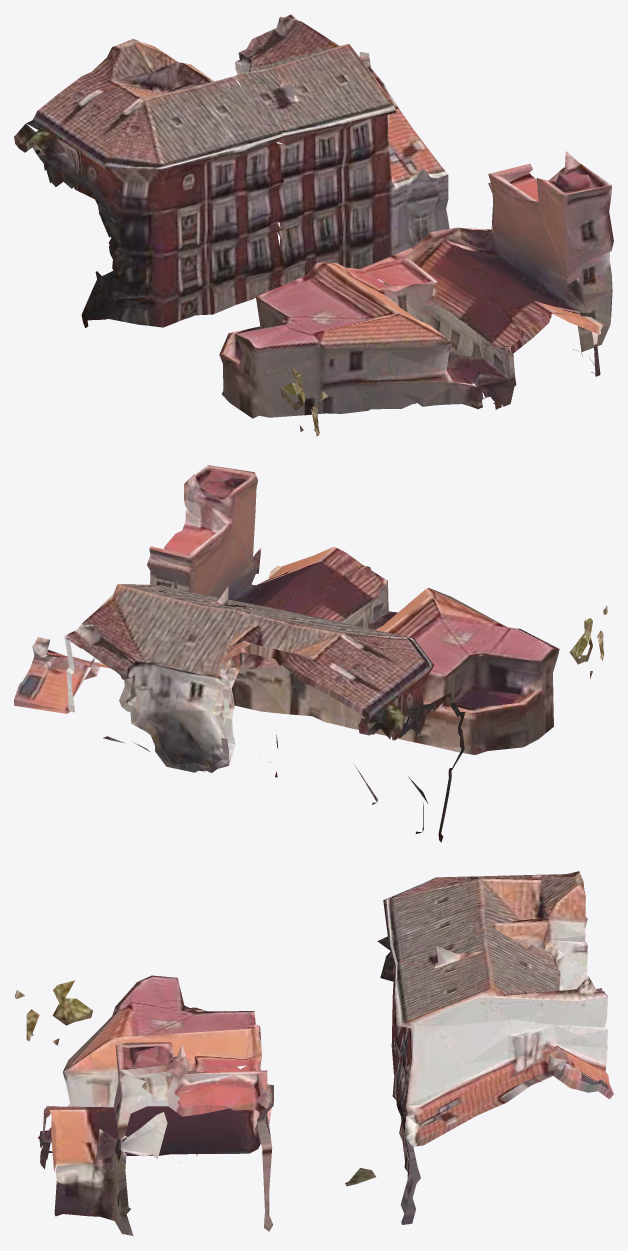
3 views of the same model, one above another, from view 1: azimuth 30°, elevation 25°; view 2: azimuth 150°, elevation 25°; view 3: azimuth 270°, elevation 25° (orthographic). The views are drawn at different scales.
Parts seen in each view (by area): view 1: Mesh_0; view 2: Mesh_0; view 3: Mesh_0.
Part boxes in pixels (x1,y1,x2,y2): Mesh_0: [14, 14, 613, 436]; Mesh_0: [14, 465, 607, 842]; Mesh_0: [15, 871, 613, 1236].
Bounding box in the file's own units: 32.9 × 17.18 × 41.39.
1 material, 1 textured.
